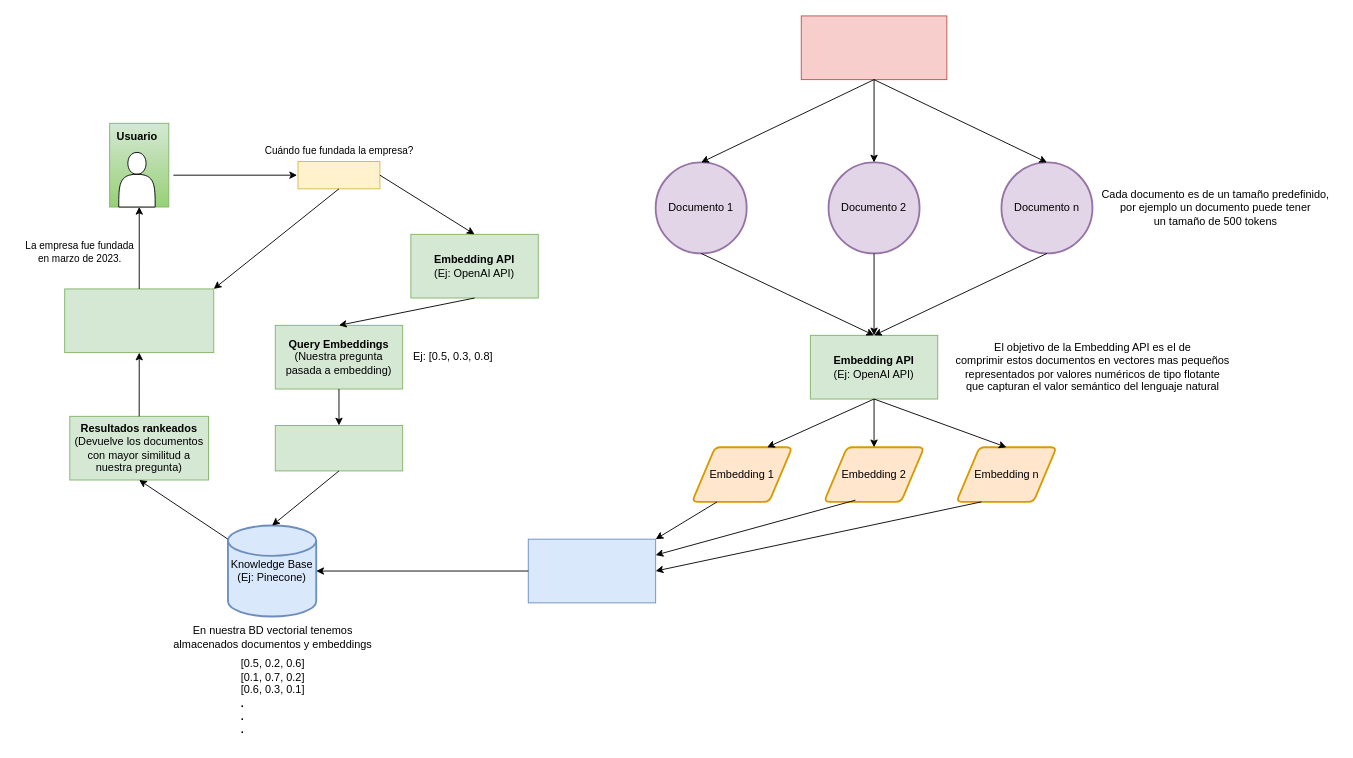
Image size: 1353x758. Some labels were removed from this diagram. The shapes that lost their labels are listed below. From the top down, each one's centre as x and y in pixels, then its label:
At pixel 873 47: "Fuente de información (Ej: PDF con información sobre Promptior)".
At pixel 338 175: "Pregunta".
At pixel 139 320: "LLM (Utiliza esos documentos como contexto para responder la pregunta)".
At pixel 338 448: "Búsqueda semántica o por similitud".
At pixel 591 570: "Se construye un índice semántico".
